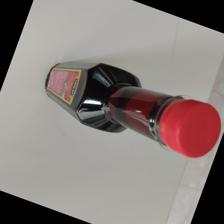Namngu: (44, 62, 220, 157)
